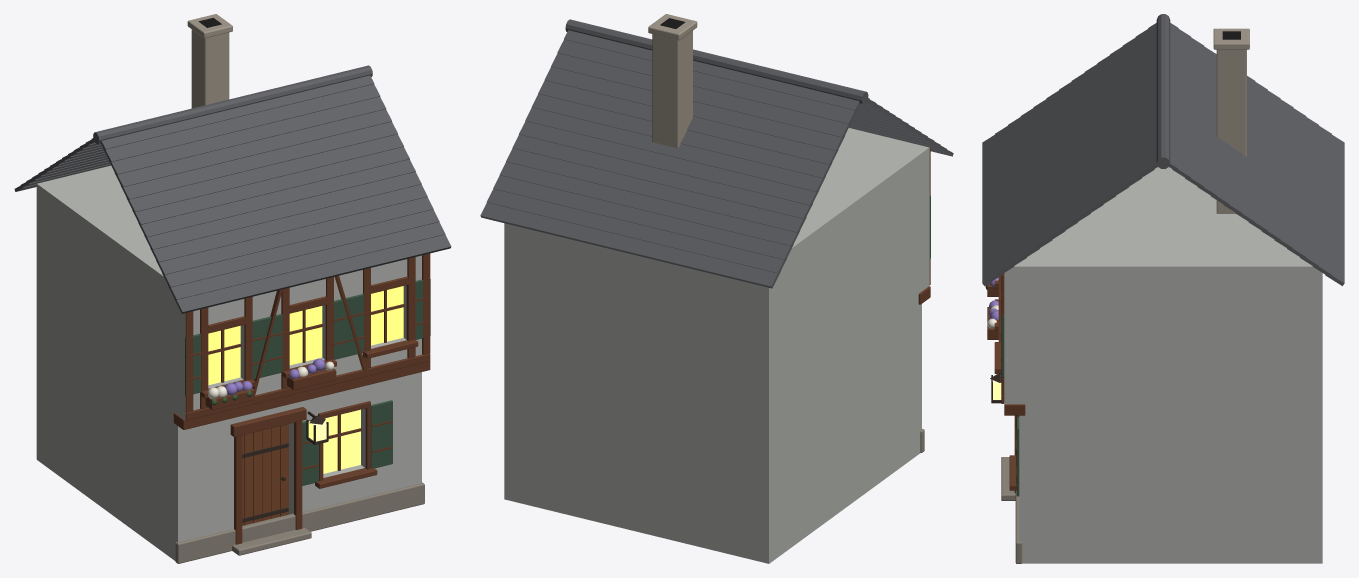
The model's file is casa_5x5.glb.
3 renders of one model, left to right at view 1: azimuth 30°, elevation 25°; view 2: azimuth 150°, elevation 25°; view 3: azimuth 270°, elevation 25°, orthographic. The views are drawn at different scales.
Parts seen in each view (by area): view 1: casa_5x5_pa_dentro, casa_5x5_pb_dentro, casa_5x5_pb, casa_5x5_zocalo, casa_5x5_pb.005, casa_5x5_tejado_s_0, casa_5x5_tejado_s_8, casa_5x5_tejado_s_5, casa_5x5_tejado_s_4, casa_5x5_tejado_s_7, casa_5x5_tejado_s_10, casa_5x5_tejado_s_1 (+52 smaller); view 2: casa_5x5_pb_dentro, casa_5x5_pa_dentro, casa_5x5_tejado_n_0, casa_5x5_tejado_n_3, casa_5x5_tejado_n_6, casa_5x5_tejado_n_2, casa_5x5_tejado_n_4, casa_5x5_tejado_n_5, casa_5x5_tejado_n_1, casa_5x5_tejado_n_7, casa_5x5_chimenea0, casa_5x5_tejado_n_8 (+9 smaller); view 3: casa_5x5_pa_dentro, casa_5x5_pb_dentro, casa_5x5_chimenea0, casa_5x5_pb.005, casa_5x5_tejado_cumbrera, casa_5x5_pa.009, casa_5x5_tejado_s_3, casa_5x5_tejado_n_3, casa_5x5_tejado_s_8, casa_5x5_tejado_n_12, casa_5x5_tejado_s_11, casa_5x5_tejado_s_4 (+24 smaller).
Boxes of the visible parts, x1,y1,x2,y2 form: casa_5x5_pa_dentro: (36,165,177,414); casa_5x5_pb_dentro: (36,312,169,556); casa_5x5_pb: (169,409,240,560); casa_5x5_zocalo: (175,482,424,563); casa_5x5_pb.005: (361,372,421,496); casa_5x5_tejado_s_0: (174,234,451,313); casa_5x5_tejado_s_8: (126,134,403,212); casa_5x5_tejado_s_5: (144,172,421,250); casa_5x5_tejado_s_4: (150,184,427,263); casa_5x5_tejado_s_7: (132,146,409,225); casa_5x5_tejado_s_10: (115,109,391,188); casa_5x5_tejado_s_1: (168,222,445,300); casa_5x5_pb_dentro: (504,298,912,563); casa_5x5_pa_dentro: (504,134,921,403); casa_5x5_tejado_n_0: (480,202,780,288); casa_5x5_tejado_n_3: (499,161,800,247); casa_5x5_tejado_n_6: (519,121,819,205); casa_5x5_tejado_n_2: (493,175,793,260); casa_5x5_tejado_n_4: (506,148,806,232); casa_5x5_tejado_n_5: (512,134,812,218); casa_5x5_tejado_n_1: (487,189,787,273); casa_5x5_tejado_n_7: (525,107,825,191); casa_5x5_chimenea0: (652,31,692,148); casa_5x5_tejado_n_8: (532,94,832,179); casa_5x5_pa_dentro: (1019,167,1322,404); casa_5x5_pb_dentro: (1037,404,1322,563); casa_5x5_chimenea0: (1216,49,1246,213); casa_5x5_pb.005: (1019,404,1037,563); casa_5x5_tejado_cumbrera: (1156,14,1170,168); casa_5x5_pa.009: (1004,263,1019,404); casa_5x5_tejado_s_3: (1020,108,1039,259); casa_5x5_tejado_n_3: (1287,108,1306,259); casa_5x5_tejado_s_8: (1084,64,1103,215); casa_5x5_tejado_n_12: (1172,29,1191,179); casa_5x5_tejado_s_11: (1122,37,1141,188); casa_5x5_tejado_s_4: (1033,99,1052,249).
Bounding box in the file's own units: 5.6 × 8.53 × 5.97.
